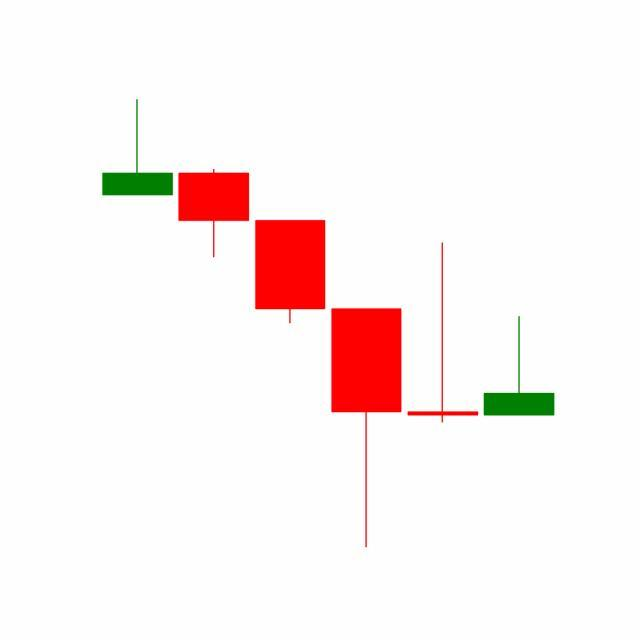Gravestone Doji: (404, 241, 482, 426)
